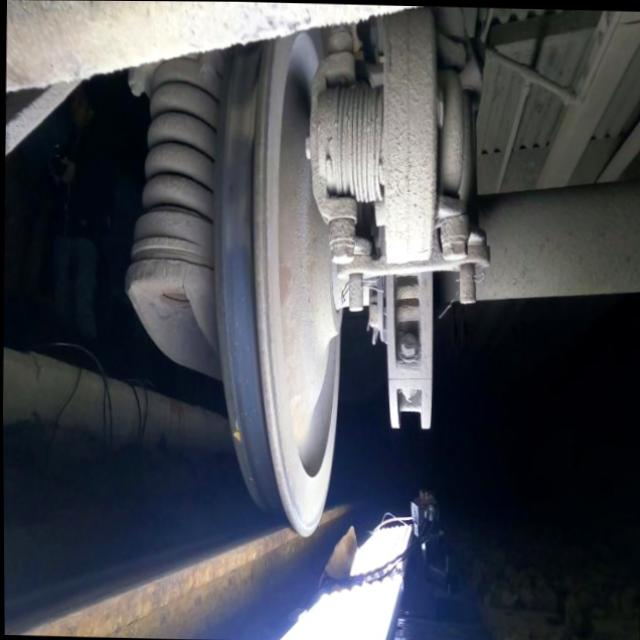Cracks-Scratches: (231, 415, 240, 442)
Shelling: (221, 77, 258, 251)
Wheel: (212, 27, 339, 535)
